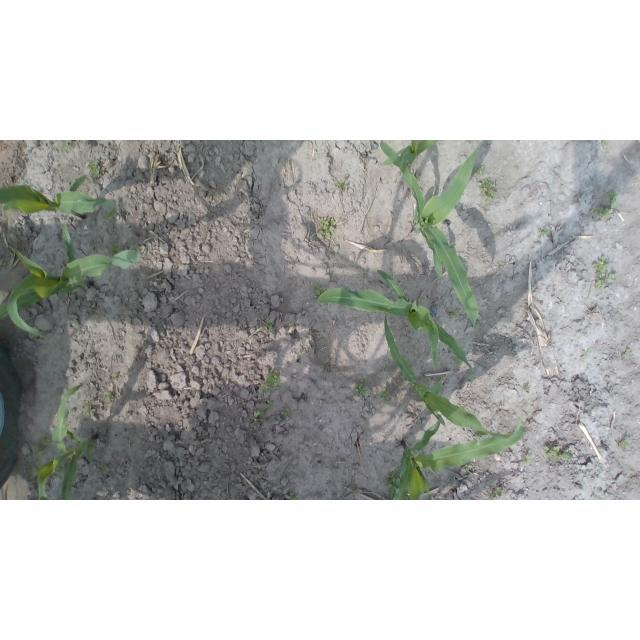Maize: (379, 140, 486, 328), (318, 270, 475, 386), (384, 315, 523, 438), (1, 221, 144, 337), (391, 427, 527, 500), (28, 384, 96, 500), (1, 173, 118, 227), (380, 140, 437, 166), (61, 141, 78, 154)
Weeds: (592, 189, 618, 220), (261, 371, 283, 394), (384, 470, 400, 500), (477, 177, 497, 201), (31, 434, 49, 458), (87, 158, 106, 179), (317, 219, 335, 240), (595, 272, 617, 289), (591, 256, 609, 276), (543, 446, 560, 461), (354, 380, 368, 396), (252, 409, 267, 423), (310, 282, 327, 294), (580, 347, 594, 361), (379, 388, 391, 404), (83, 400, 95, 416), (110, 243, 125, 255), (103, 392, 116, 405), (336, 180, 348, 193), (539, 226, 552, 238), (98, 464, 110, 476), (27, 460, 41, 470), (472, 165, 484, 176), (558, 450, 570, 461), (618, 439, 631, 449), (266, 316, 275, 330), (281, 409, 291, 420), (55, 464, 65, 475), (523, 454, 533, 465), (449, 309, 459, 318), (494, 487, 503, 496), (454, 358, 462, 368), (265, 399, 273, 409), (463, 464, 473, 472), (289, 492, 299, 500), (624, 349, 632, 358), (489, 492, 497, 501), (111, 373, 119, 381), (601, 140, 610, 146), (524, 385, 531, 390), (490, 323, 495, 330), (598, 496, 605, 501)
